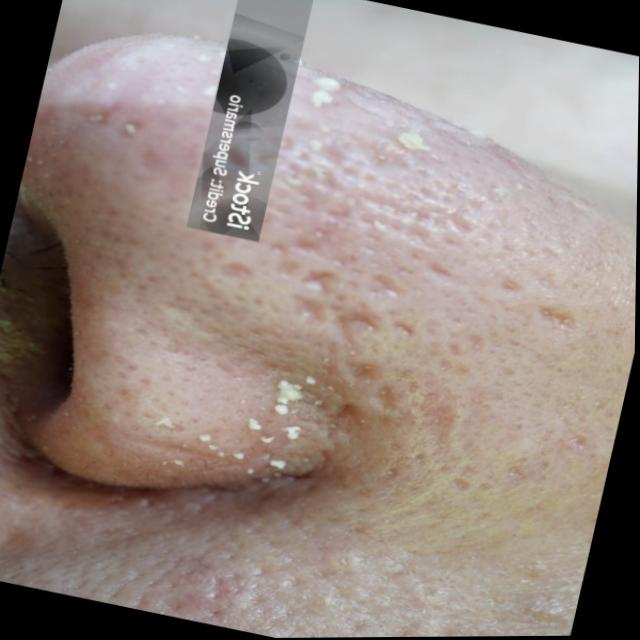whitehead: (100, 315, 454, 481), (298, 68, 583, 238)
